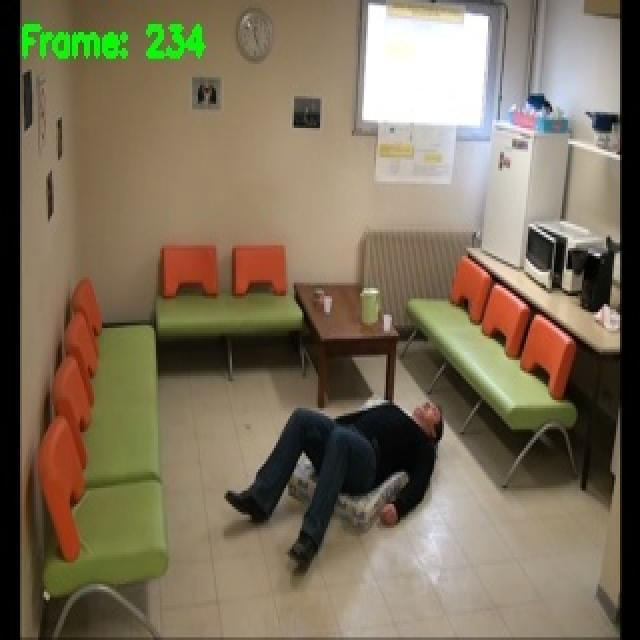fall: (230, 398, 450, 576)
